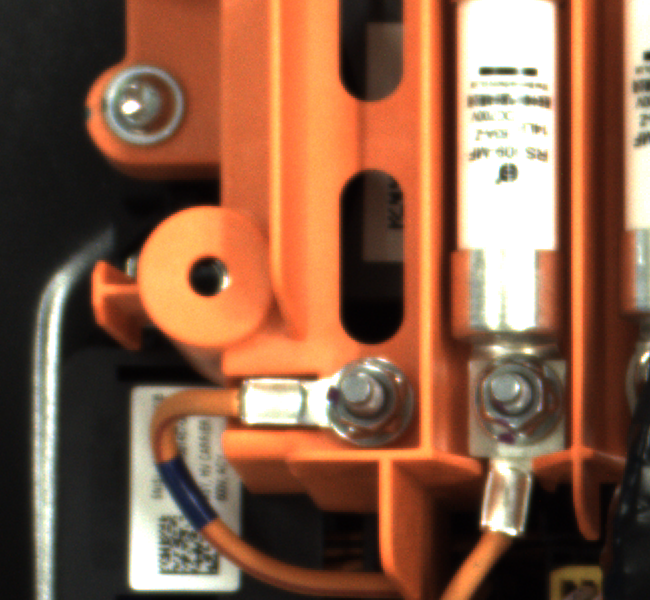screw_m: (86, 55, 219, 157)
screw_s: (463, 357, 565, 445), (320, 353, 415, 442)
